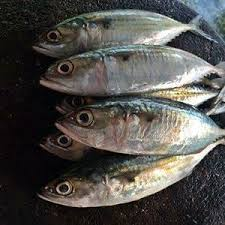Ikan Selar: (24, 157, 225, 213), (48, 99, 223, 155), (26, 6, 215, 54), (35, 50, 221, 97)
